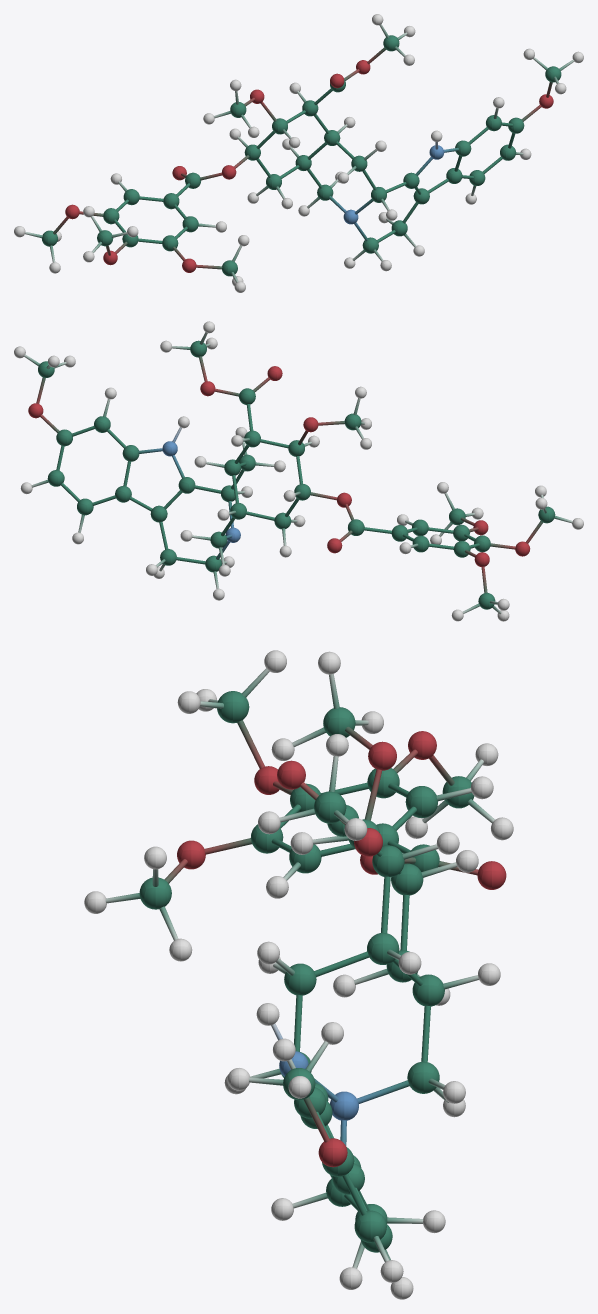
File: Reserpine.fbx
3 views of the same model, one above another, from view 1: azimuth 30°, elevation 25°; view 2: azimuth 150°, elevation 25°; view 3: azimuth 270°, elevation 25° (orthographic). The views are drawn at different scales.
Parts seen in each view (by area): view 1: curMeshHyperballExportedMesh; view 2: curMeshHyperballExportedMesh; view 3: curMeshHyperballExportedMesh.
Part boxes in pixels (box(x1,y1,x2,y2)): curMeshHyperballExportedMesh: box(14, 14, 583, 292); curMeshHyperballExportedMesh: box(14, 321, 583, 621); curMeshHyperballExportedMesh: box(84, 650, 513, 1299).
Bounding box in the file's own units: 21.09 × 9.87 × 7.5.
